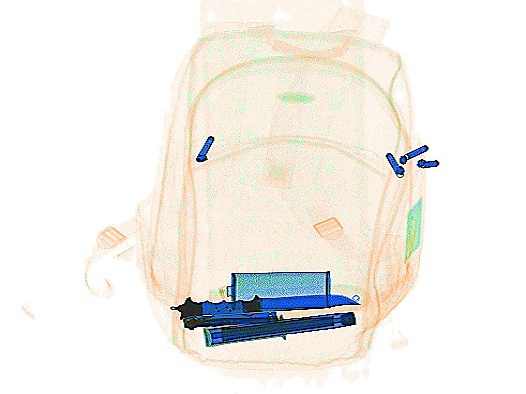knife: (169, 285, 371, 319), (181, 307, 278, 330)
zippooil: (224, 267, 332, 310)
